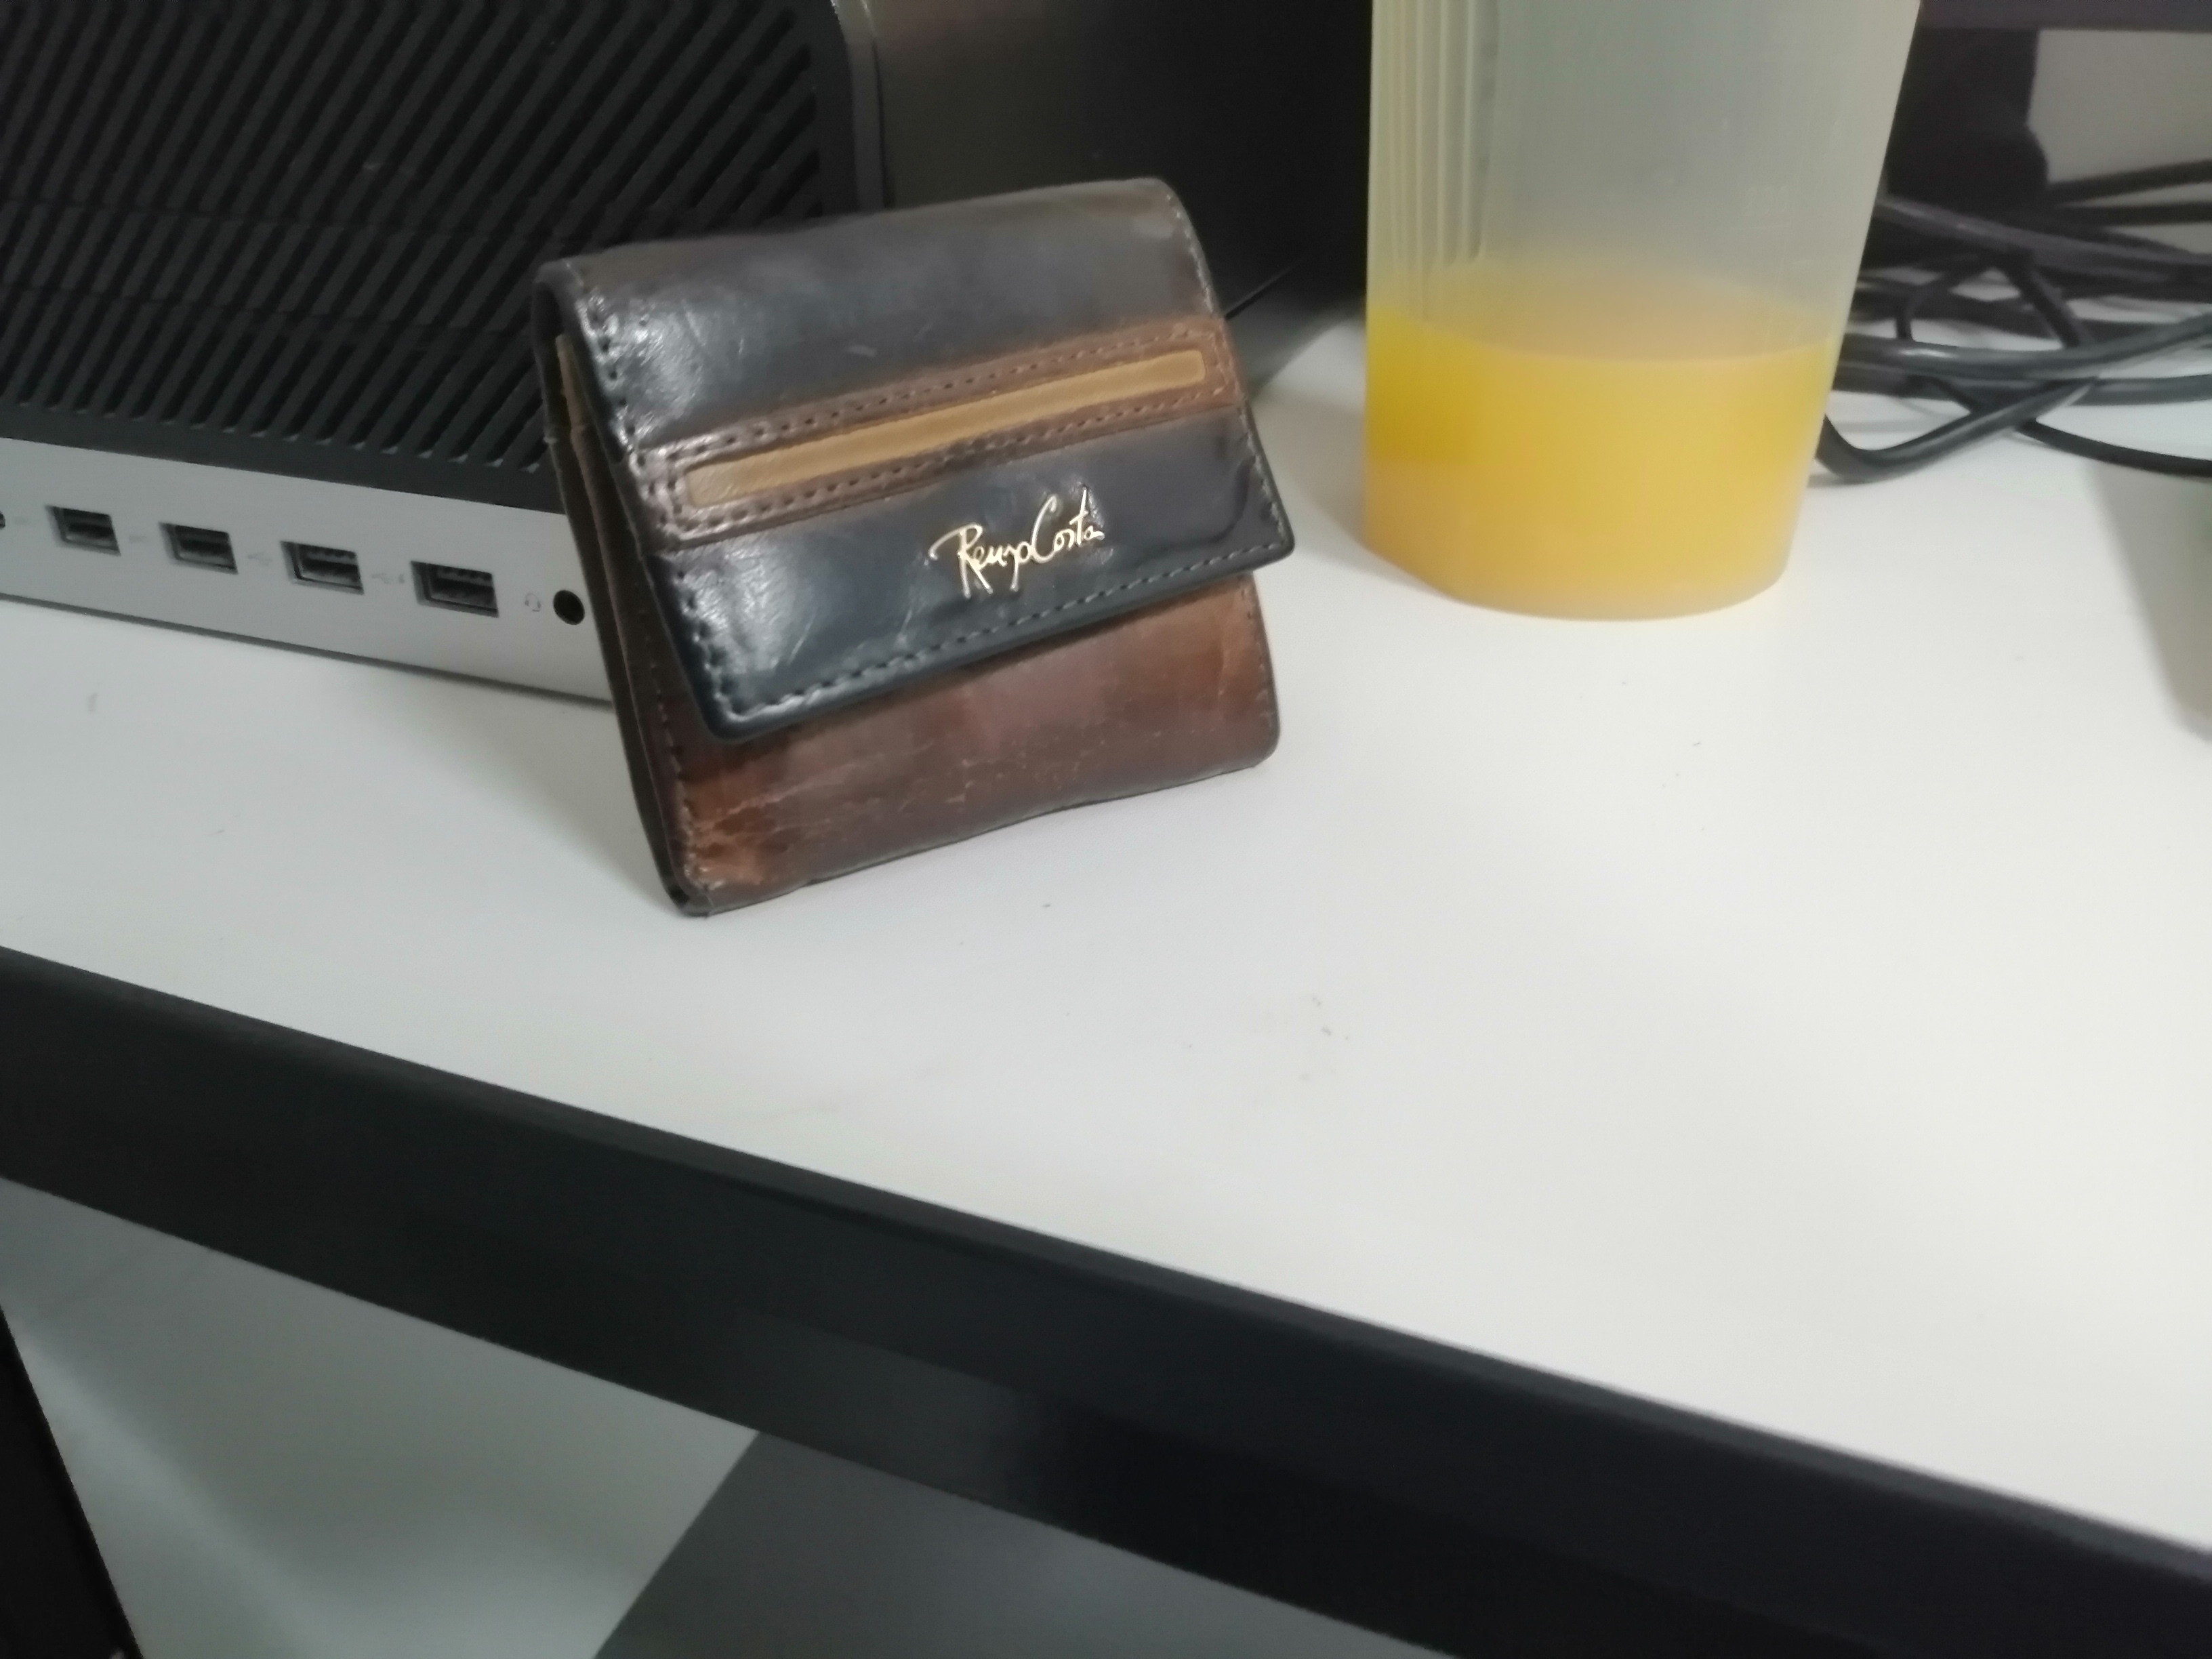monedero: (510, 171, 1350, 941)
